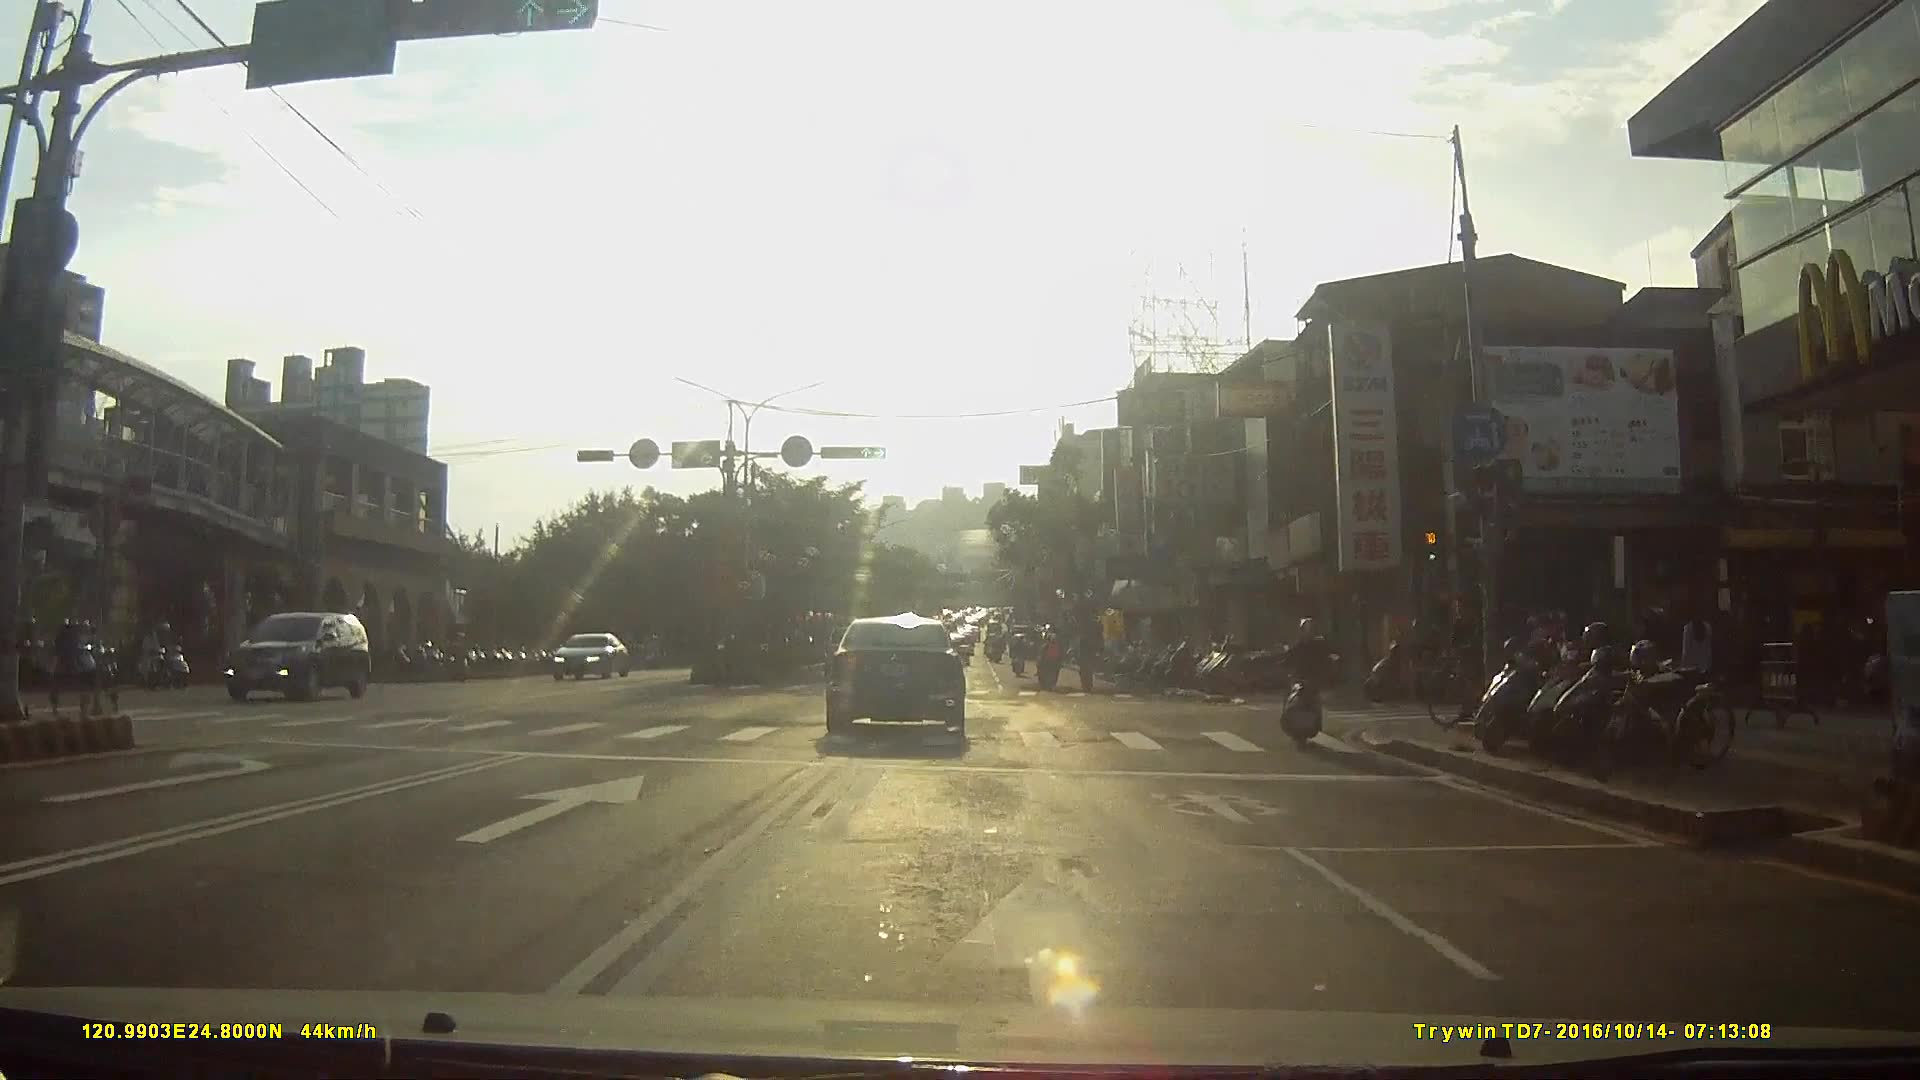pedestrian: (1677, 599, 1715, 705)
rider: (1280, 617, 1342, 746), (49, 622, 110, 691), (137, 618, 193, 691), (1037, 631, 1066, 694), (1008, 635, 1031, 680)
vehicle: (826, 609, 983, 748), (222, 610, 381, 704), (553, 632, 634, 682)
